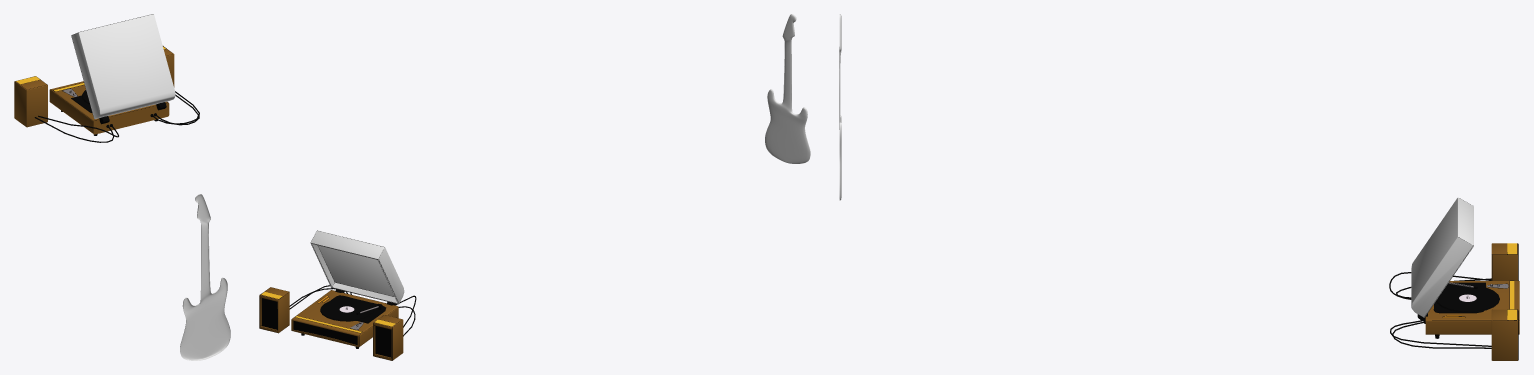
Rendered from MusicBox.fbx.
The picture shows the model from 3 angles, left to right: view 1: azimuth 30°, elevation 25°; view 2: azimuth 150°, elevation 25°; view 3: azimuth 270°, elevation 25°; orthographic projection. The views are drawn at different scales.
Visible parts, largest first — view 1: Cube.027, Cube.029, Cube.001, Cube.023, Cube.022; view 2: Cube.027, Cube.029, Cube.001, Cube.022, Cube.023, Cube.021; view 3: Cube.027, Cube.001, Cube.021, Cube.022, Cube.023.
Part boxes in pixels (x1,y1,x2,y2): Cube.027: [71, 14, 175, 121]; Cube.029: [180, 194, 230, 360]; Cube.001: [34, 81, 199, 142]; Cube.023: [14, 79, 47, 127]; Cube.022: [163, 46, 174, 87]; Cube.027: [310, 230, 404, 305]; Cube.029: [765, 14, 810, 163]; Cube.001: [289, 285, 416, 348]; Cube.022: [259, 287, 289, 333]; Cube.023: [373, 315, 403, 360]; Cube.021: [320, 298, 373, 321]; Cube.027: [1411, 197, 1473, 317]; Cube.001: [1389, 272, 1519, 348]; Cube.021: [1436, 285, 1499, 312]; Cube.022: [1491, 309, 1518, 360]; Cube.023: [1491, 243, 1518, 280].
Bounding box in the file's own units: 2753 × 1650 × 5065.
